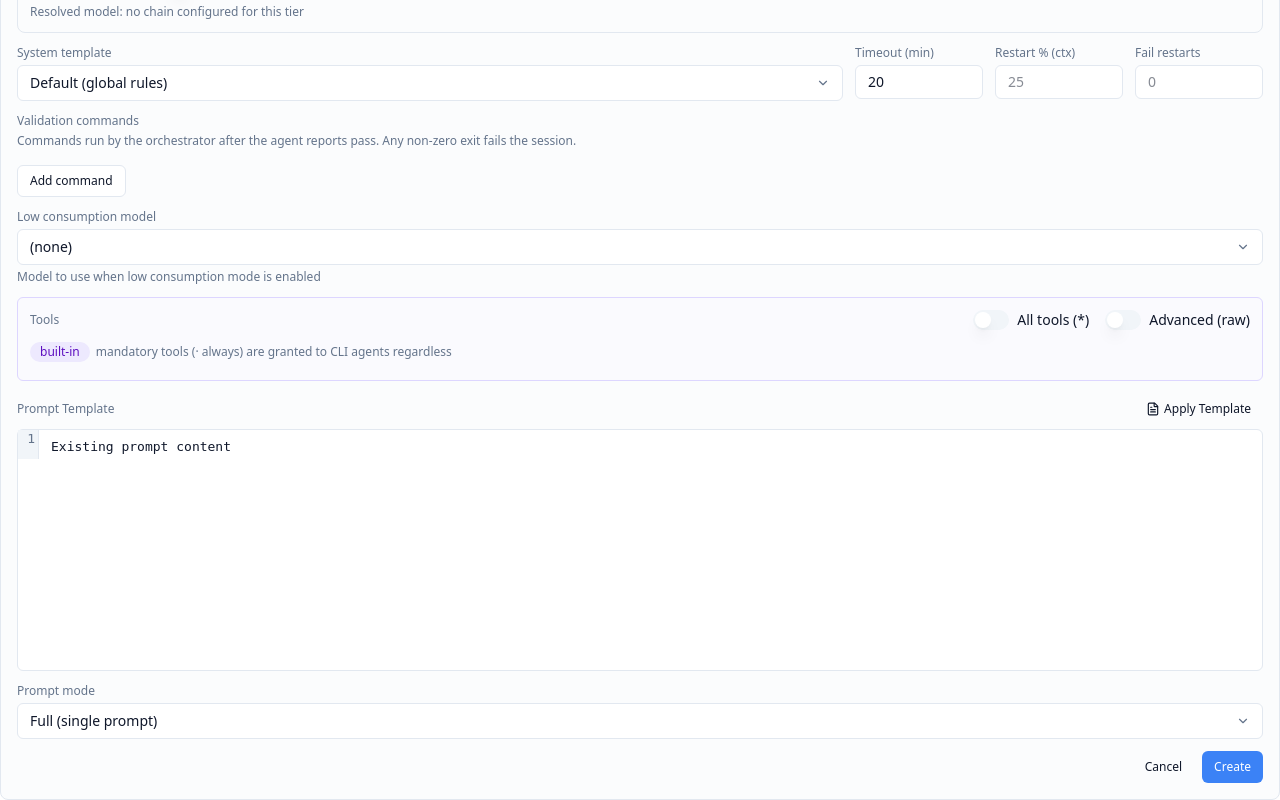
Test: AgentDefForm - Apply Template button › passes hasExistingPrompt=true to dialog when prompt is non-empty
(page scrolled)
Click the button "Apply Template" at (1199, 409), box left=1134, top=393, right=1263, bottom=425
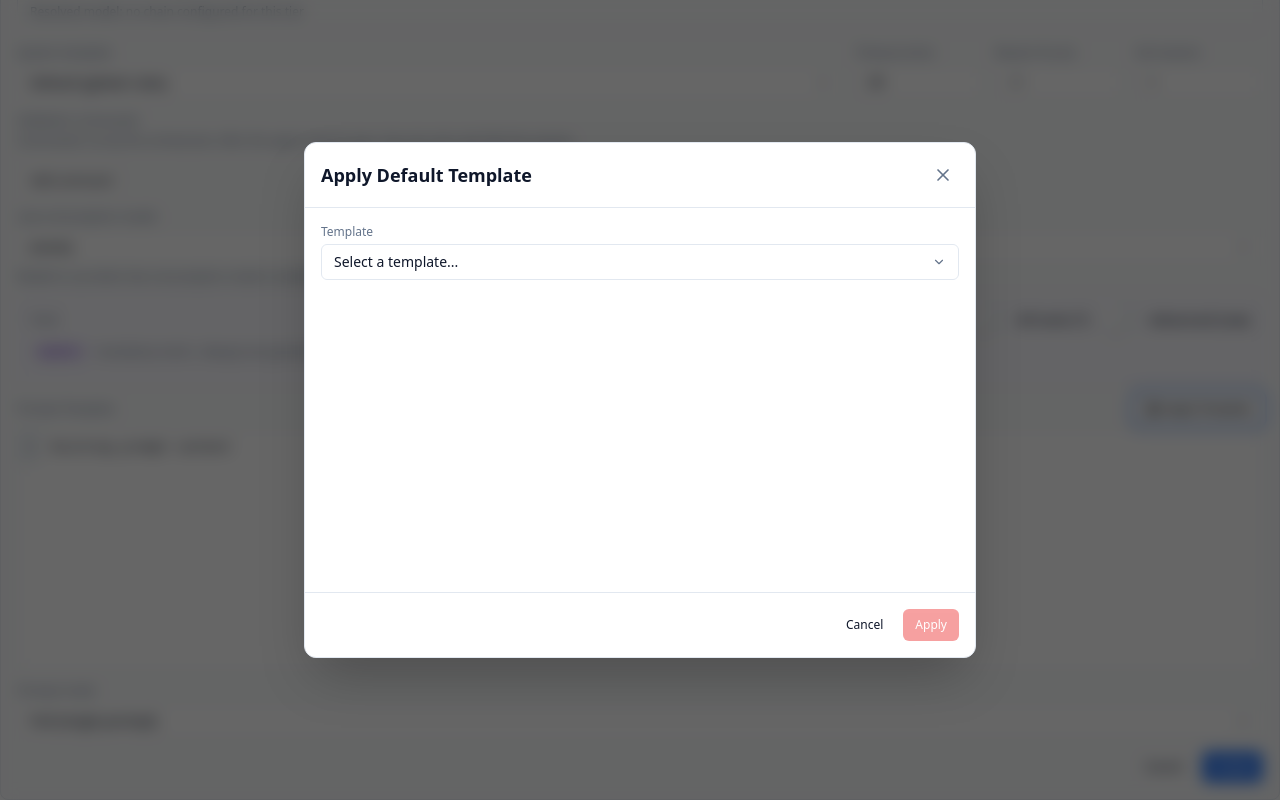
Now the text "Template" is shown, box left=321, top=223, right=373, bottom=240
# Select a template to trigger warning visibility
Click the button "Select a template..." at (396, 262), box left=321, top=244, right=959, bottom=280
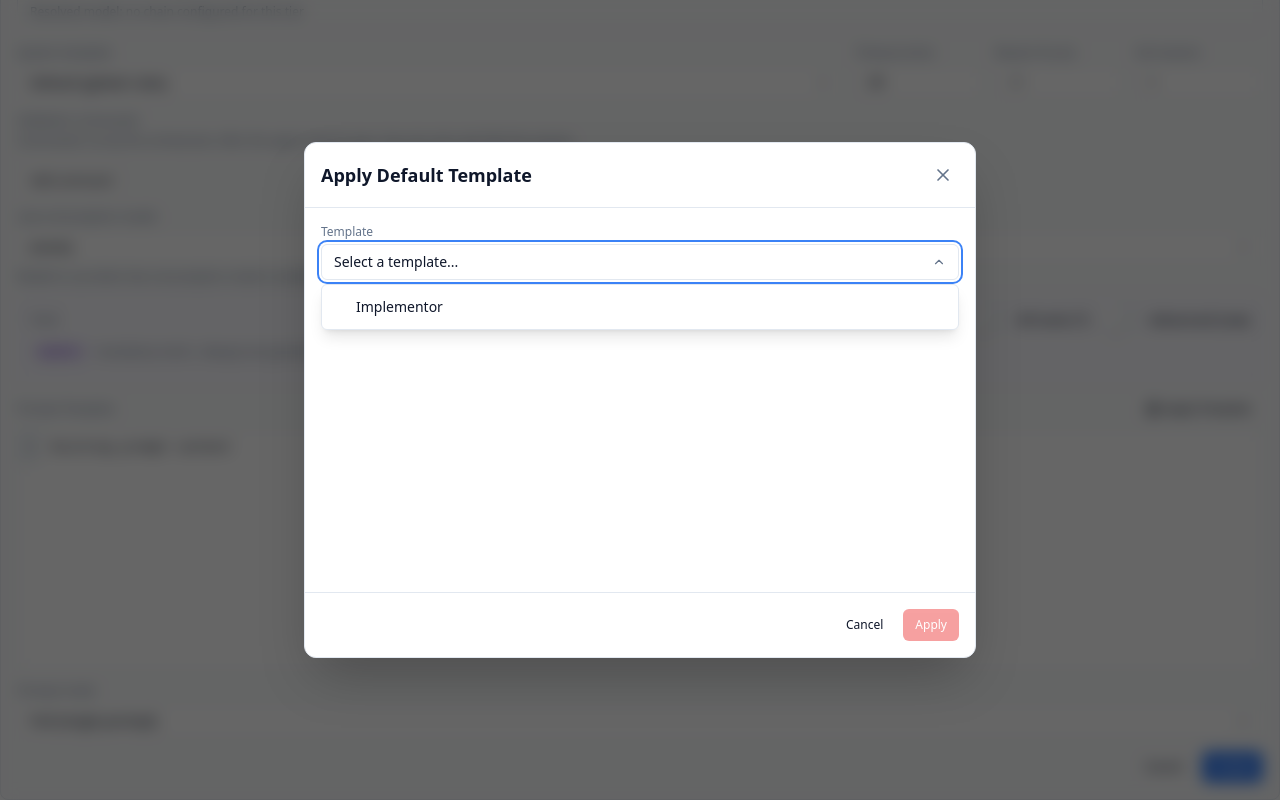
Click the text "Implementor" at (399, 307), box left=356, top=297, right=443, bottom=317
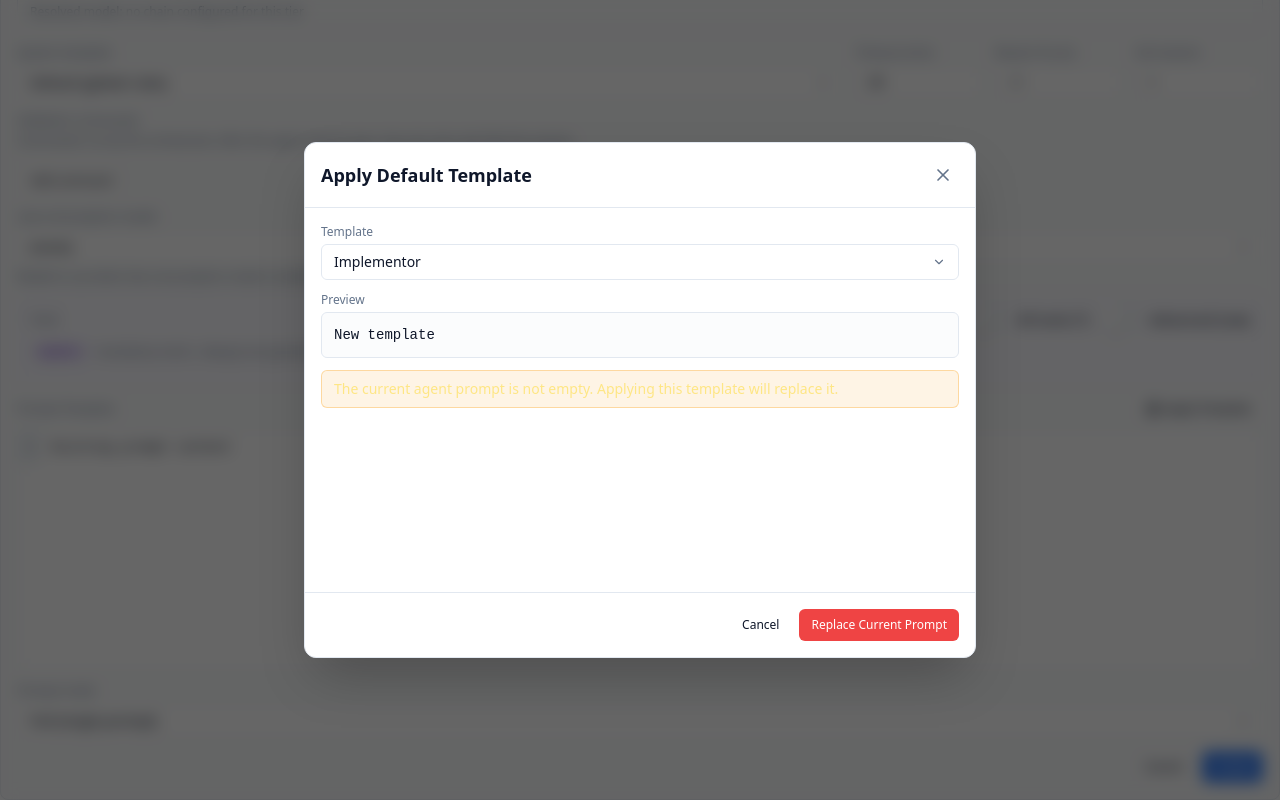
Now the text "current agent prompt is not empty" is shown, box left=334, top=379, right=838, bottom=398
